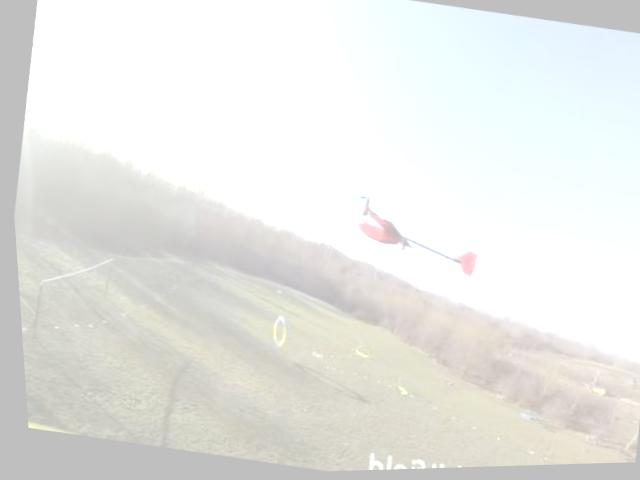uav: (329, 183, 493, 291)
